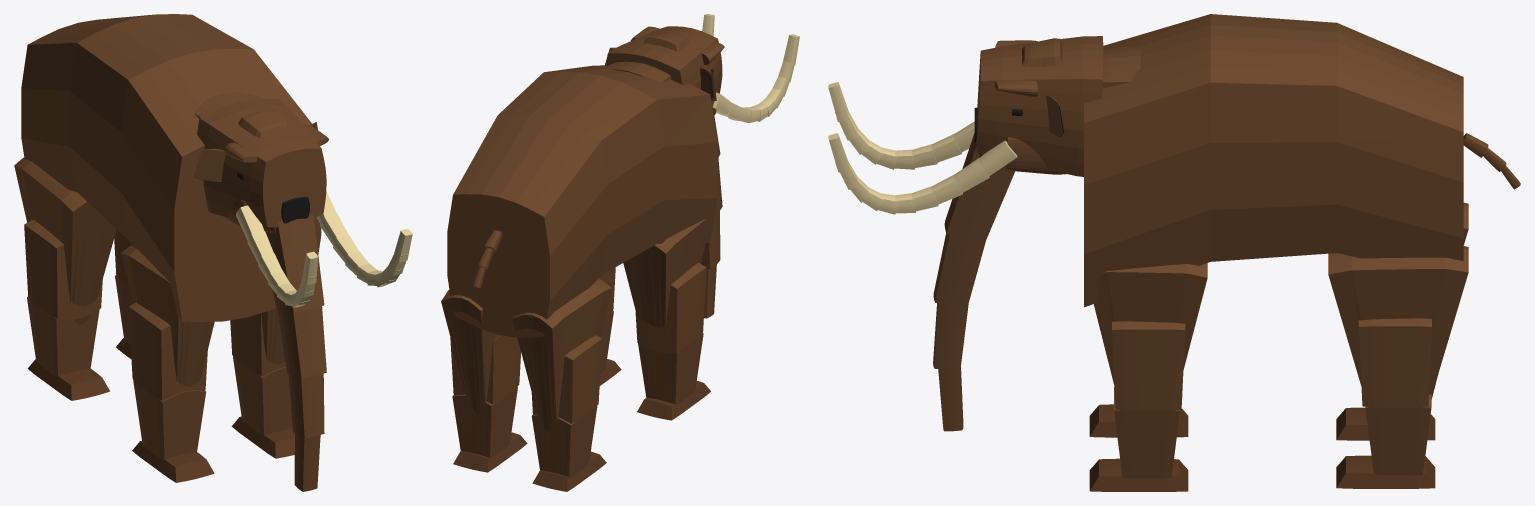
File: terranova_mammut.obj
3 views of the same model, side by side, from view 1: azimuth 30°, elevation 25°; view 2: azimuth 150°, elevation 25°; view 3: azimuth 270°, elevation 25° (orthographic). The views are drawn at different scales.
Parts seen in each view (by area): view 1: Körper, Vorderbein, Kopf, Rüssel, Hinterbein, Keule, Stoßzahn, Schultermasse, Vorderhuf, Hinterhuf, Stirnwulst, Ohr (+3 smaller); view 2: Körper, Hinterbein, Keule, Vorderbein, Schultermasse, Kopf, Stoßzahn, Hinterhuf, Rüssel, Vorderhuf, Hals, Schwanz (+2 smaller); view 3: Körper, Kopf, Hinterbein, Vorderbein, Keule, Rüssel, Stoßzahn, Schultermasse, Hinterhuf, Vorderhuf, Hals, Stirnwulst (+3 smaller).
Part boxes in pixels (<box>): Körper: <box>21,14,321,322</box>; Vorderbein: <box>128,302,292,459</box>; Kopf: <box>197,98,326,227</box>; Rüssel: <box>265,214,326,491</box>; Hinterbein: <box>24,219,132,376</box>; Keule: <box>14,157,116,324</box>; Stoßzahn: <box>236,191,412,307</box>; Schultermasse: <box>121,245,285,386</box>; Vorderhuf: <box>132,416,294,482</box>; Hinterhuf: <box>27,338,131,400</box>; Stirnwulst: <box>238,109,290,138</box>; Ohr: <box>193,122,317,182</box>; Körper: <box>447,65,717,337</box>; Hinterbein: <box>450,335,602,477</box>; Keule: <box>441,278,612,431</box>; Vorderbein: <box>599,262,706,404</box>; Schultermasse: <box>623,219,706,327</box>; Kopf: <box>605,26,722,93</box>; Stoßzahn: <box>702,14,799,122</box>; Hinterhuf: <box>453,432,606,491</box>; Rüssel: <box>701,116,722,318</box>; Vorderhuf: <box>599,359,710,420</box>; Hals: <box>603,61,671,82</box>; Schwanz: <box>473,230,502,288</box>; Körper: <box>1084,14,1463,307</box>; Kopf: <box>976,36,1103,176</box>; Hinterbein: <box>1358,318,1431,475</box>; Vorderbein: <box>1112,321,1185,478</box>; Keule: <box>1328,202,1468,398</box>; Rüssel: <box>933,133,1014,431</box>; Stoßzahn: <box>828,82,1017,214</box>; Schultermasse: <box>1093,263,1207,386</box>; Hinterhuf: <box>1336,407,1435,488</box>; Vorderhuf: <box>1089,404,1188,491</box>; Hals: <box>1102,46,1140,88</box>; Stirnwulst: <box>1022,38,1062,66</box>.
Bounding box in the file's own units: 1.27 × 3.05 × 4.56.
